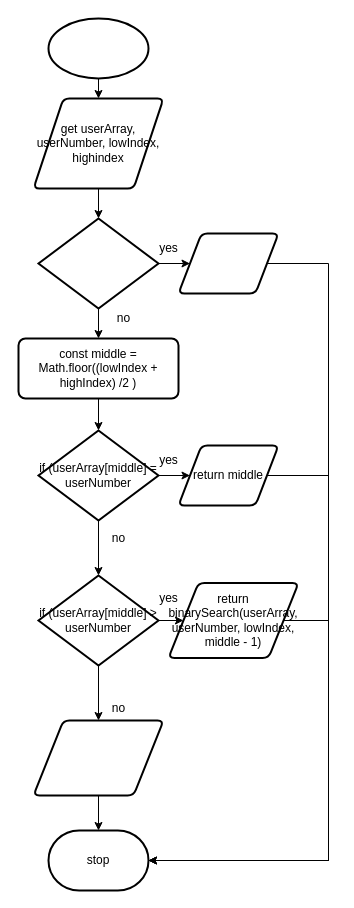
The diagram is 354 pixels wide and 908 high, and some of its shapes have lost their labels. The centre of each missing label's shape, as x and y in pixels:
if (lowIndex > highIndex): (98,263)
return -1: (228,263)
return binarySearch(userArray, userNumber, middle + 1, highIndex: (98,757)
start: (98,48)
